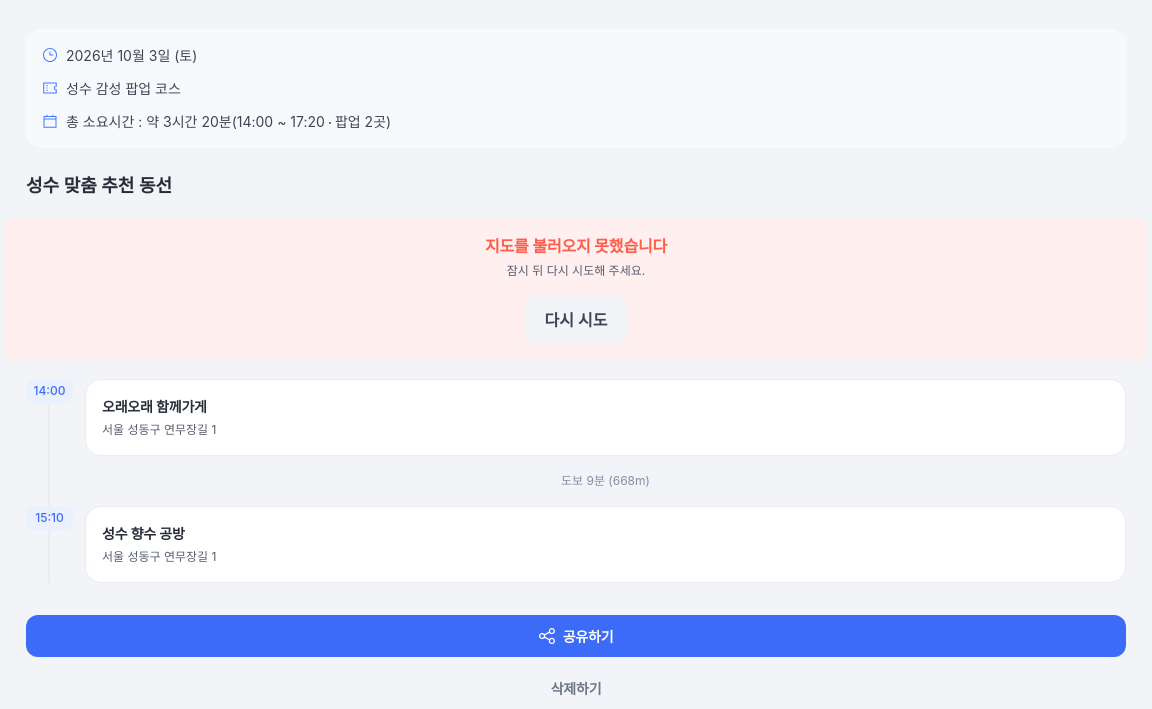
Test: TC-020 삭제 확인에서 취소하면 알럿만 닫히고 일정 상세에 남는다
(page scrolled)
Click the button "삭제하기" at coordinates (576, 688), box [26, 667, 1126, 708]
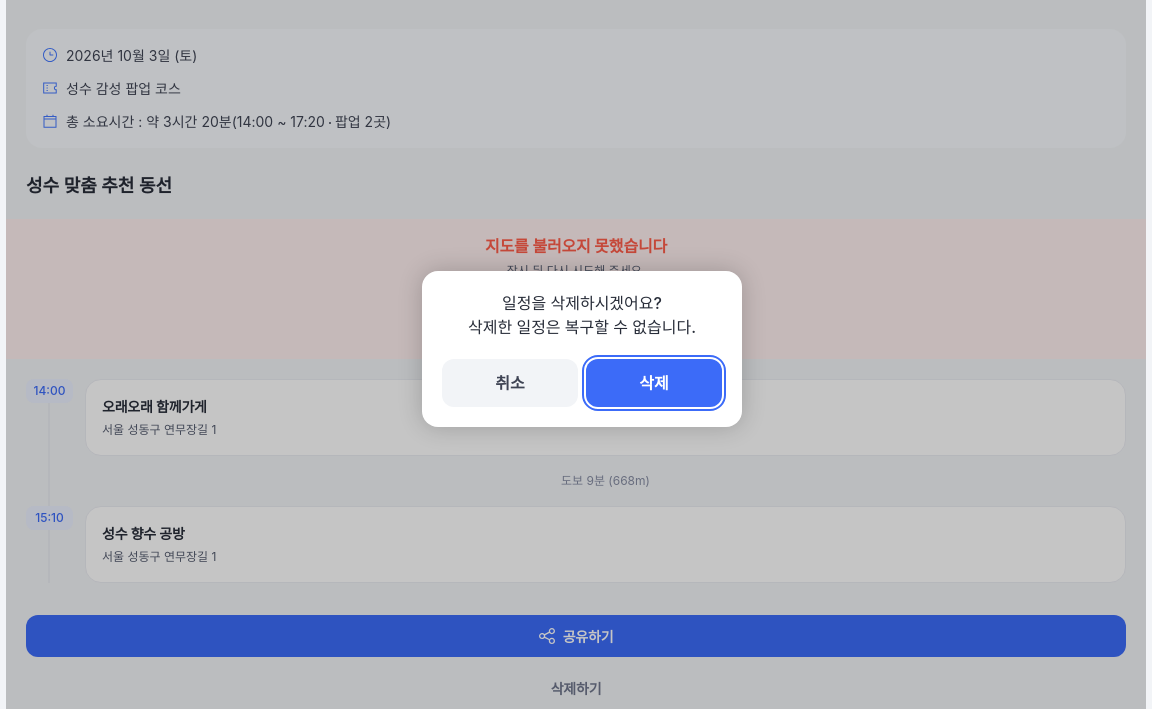
Click the button "취소" at coordinates (510, 383), box [442, 359, 578, 407]
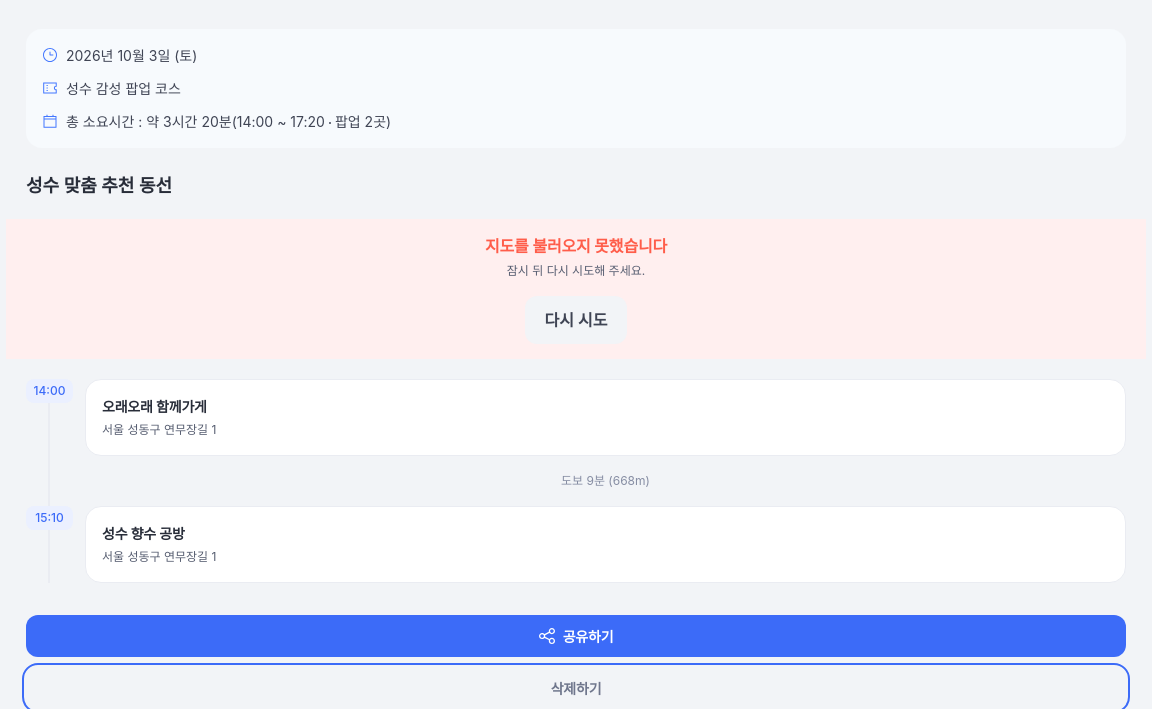
Expected: the button "삭제하기" is enabled, [26, 667, 1126, 708]
Result: the dialog is gone
